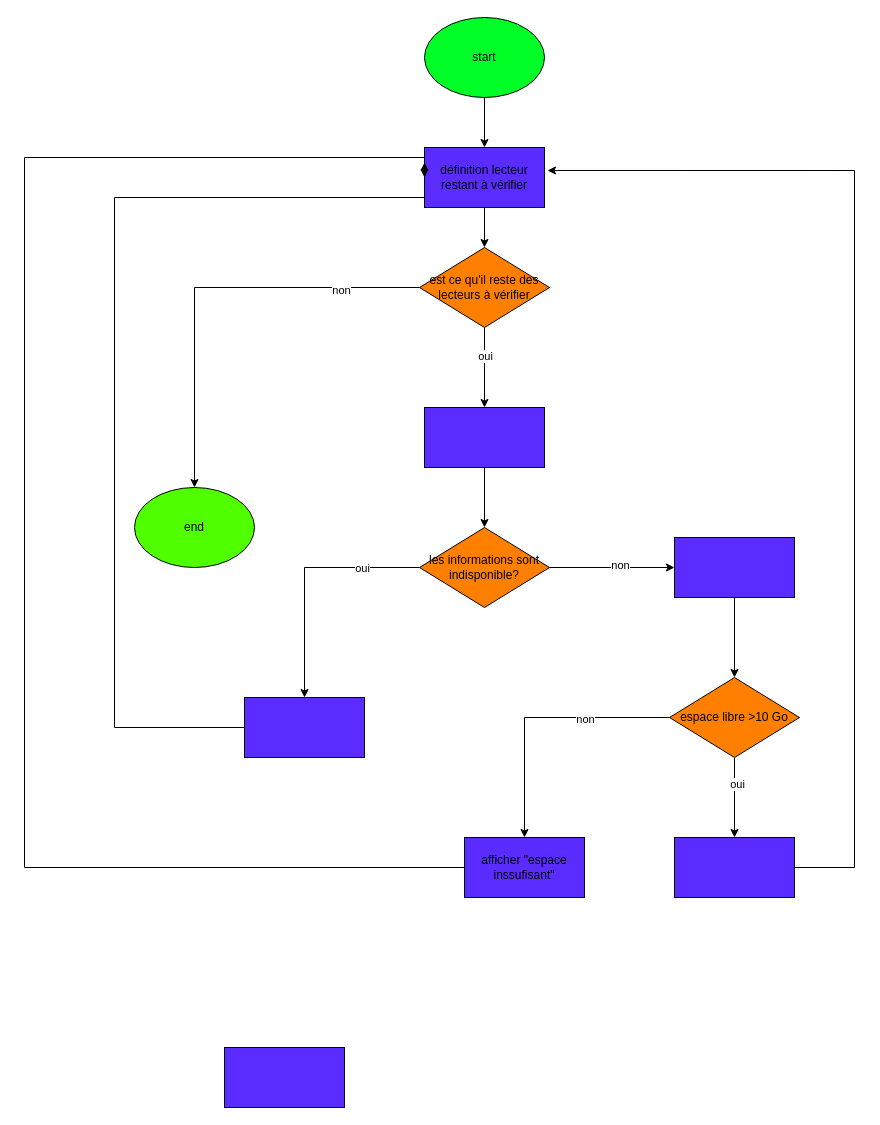
Image size: 880x1125. Some labels were removed from this diagram. The shapes that lost their labels are listed below. From the top down, each one's centre as x and y in pixels, then its label:
pixel 484 437: lecture espace
pixel 734 567: conversion en Go
pixel 304 727: afficher "erreur: informations indisponible"
pixel 734 867: afficher "espace suffisant"
